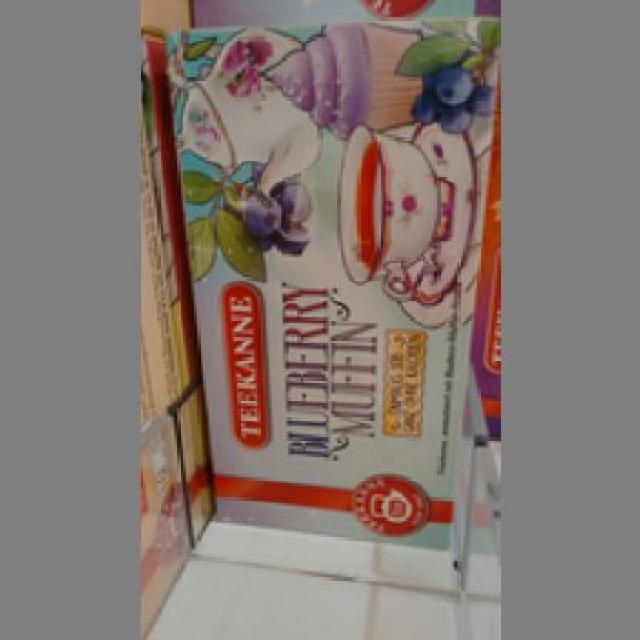Tea: (160, 13, 494, 550)
